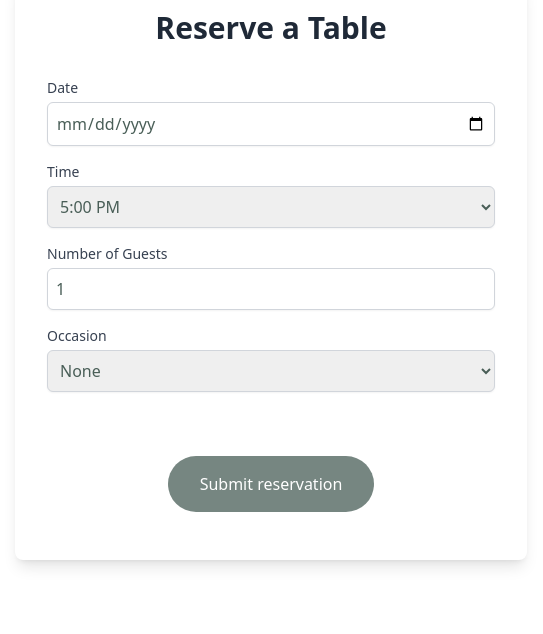
Test case: ReservationForm Validation › displays an error message for fewer than 1 guest
Replace the text in the number field labelled "Number of Guests" with "0" at [271, 289], box [47, 268, 495, 310]
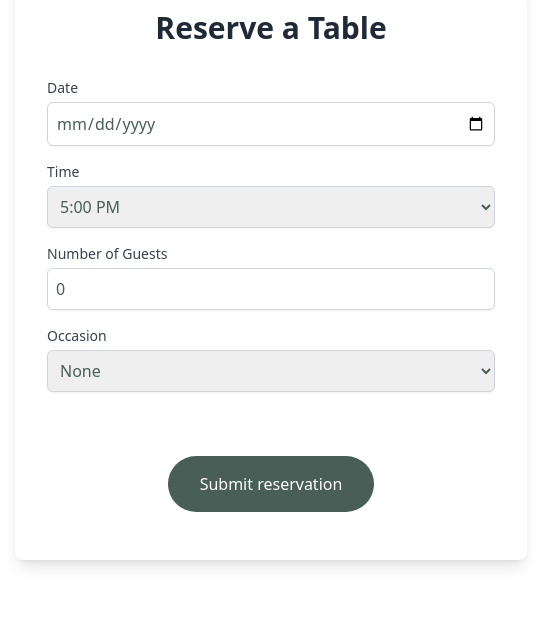
Leave the number field labelled "Number of Guests", box [47, 268, 495, 310]
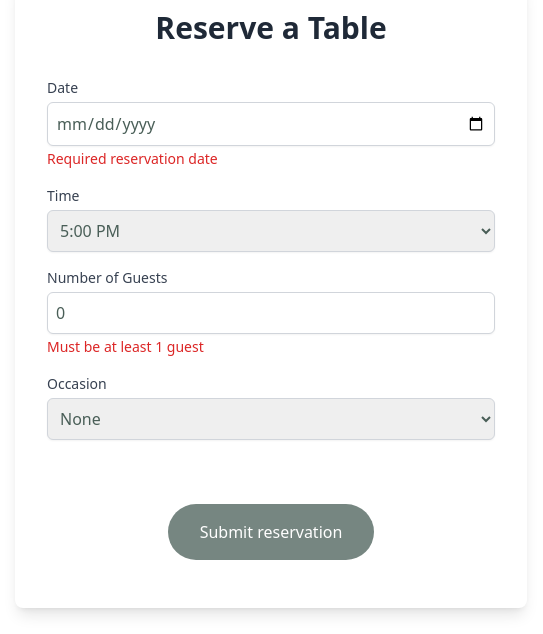
Now the text "Must be at least 1 guest" is shown, box [47, 337, 204, 356]
